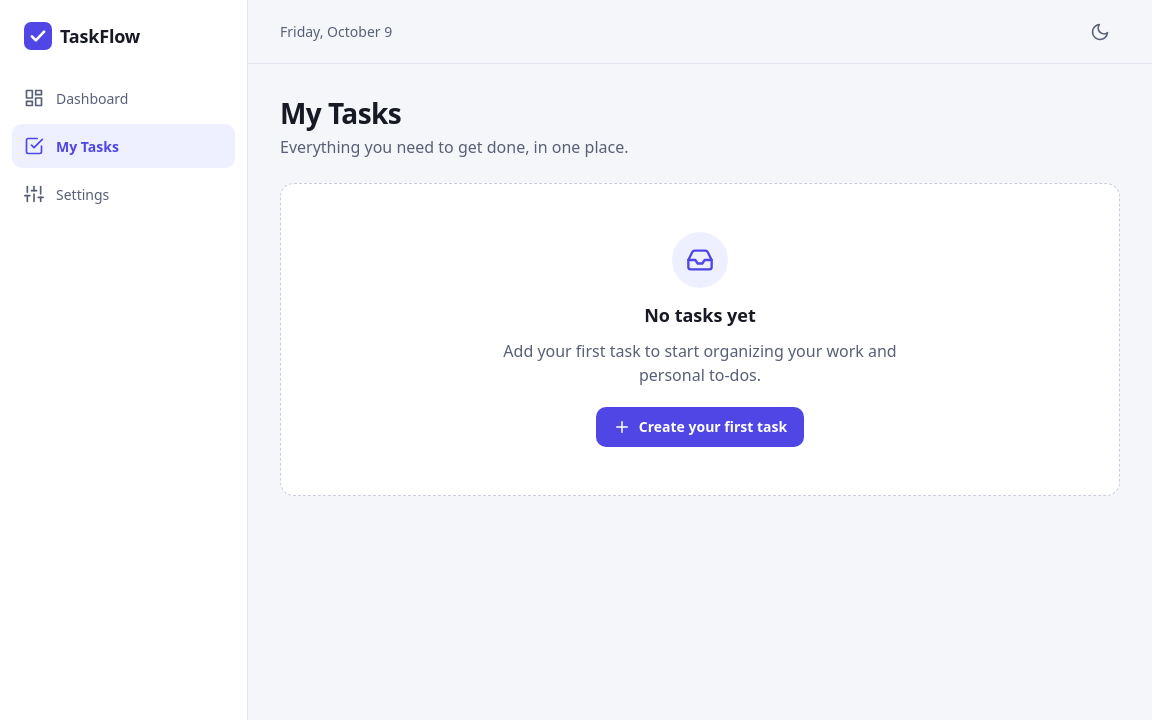
no false success after failed writes › reports a successful save plainly
The width and height of the screenshot is (1152, 720).
Click the button "Create your first task". click: (700, 426)
box: [596, 406, 804, 446]
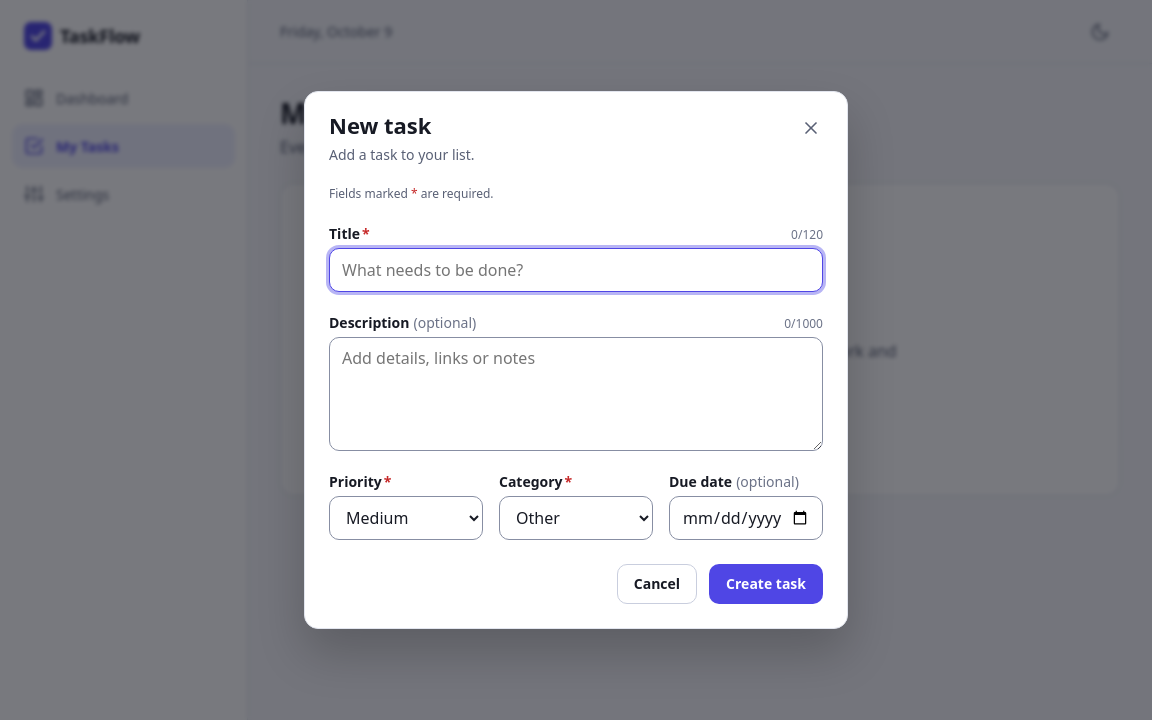
Type "Saved" into the field labelled "Title*". click: (576, 270)
box: [329, 248, 823, 292]
Then press Enter
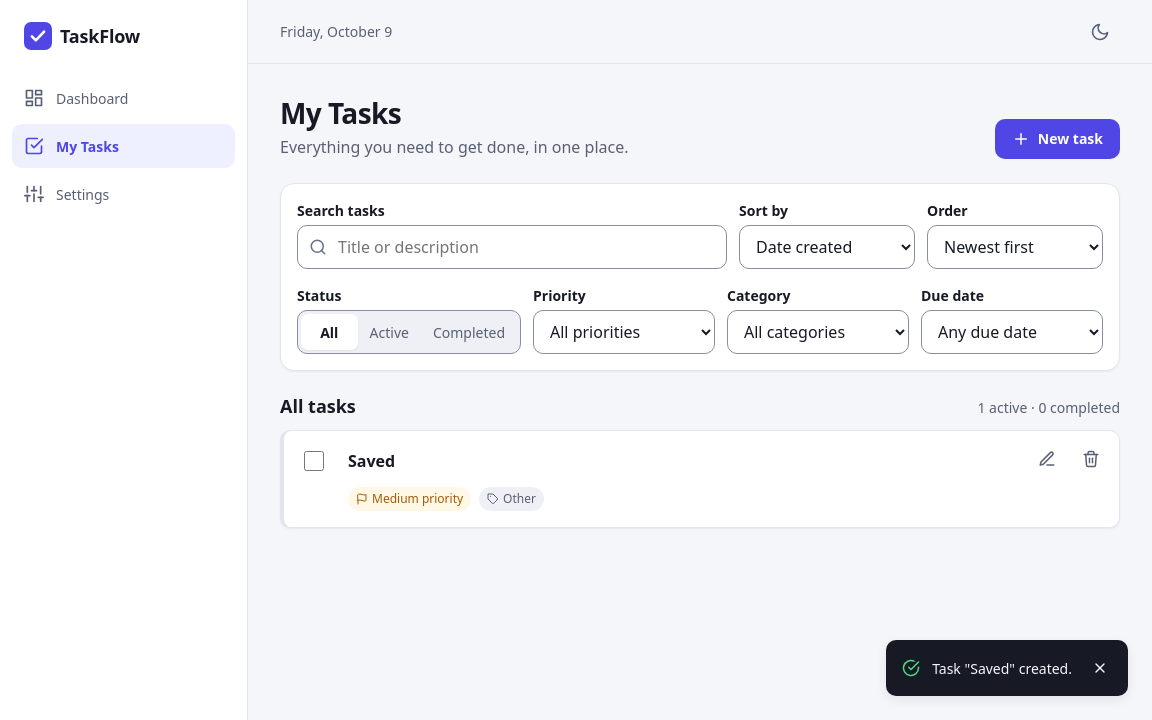
Check: the message named "Notifications" does not show "This change was not saved and will be lost when you reload or close this tab.", box [886, 640, 1128, 696]
Check: the message named "Notifications" reads "Task \"Saved\" created.", box [932, 658, 1072, 678]
